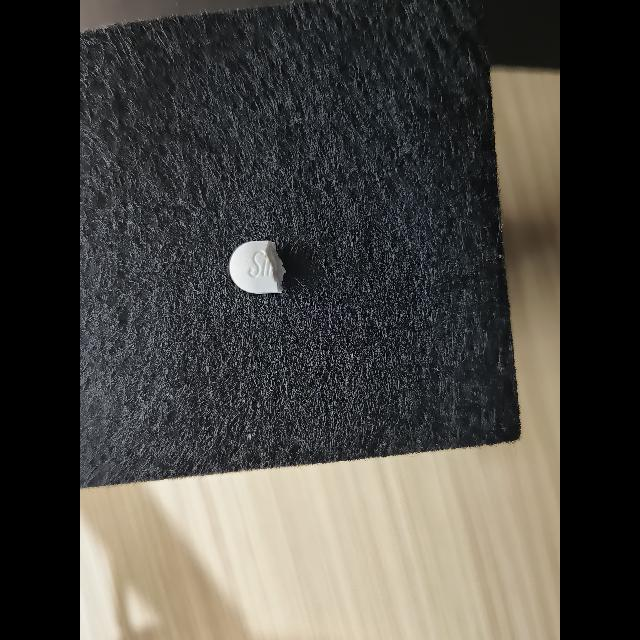Chipped Pill: (229, 241, 286, 294)
